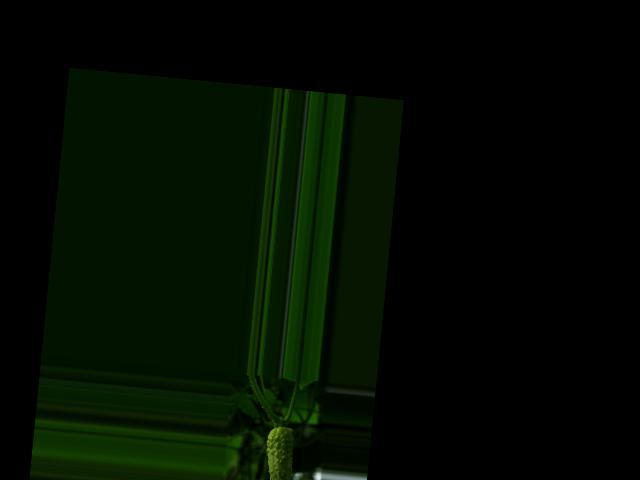cucumber: (261, 425, 295, 480)
